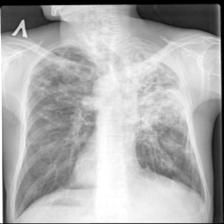tuberculosis: (10, 38, 211, 224)
